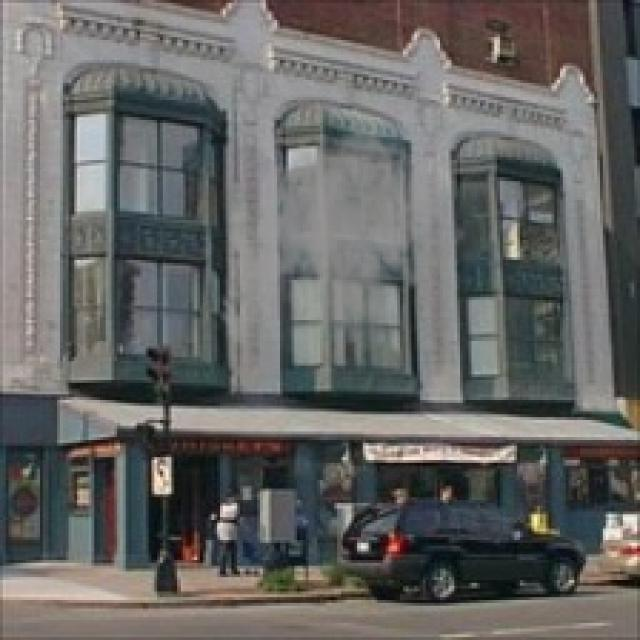Smoke: (214, 111, 469, 380)
